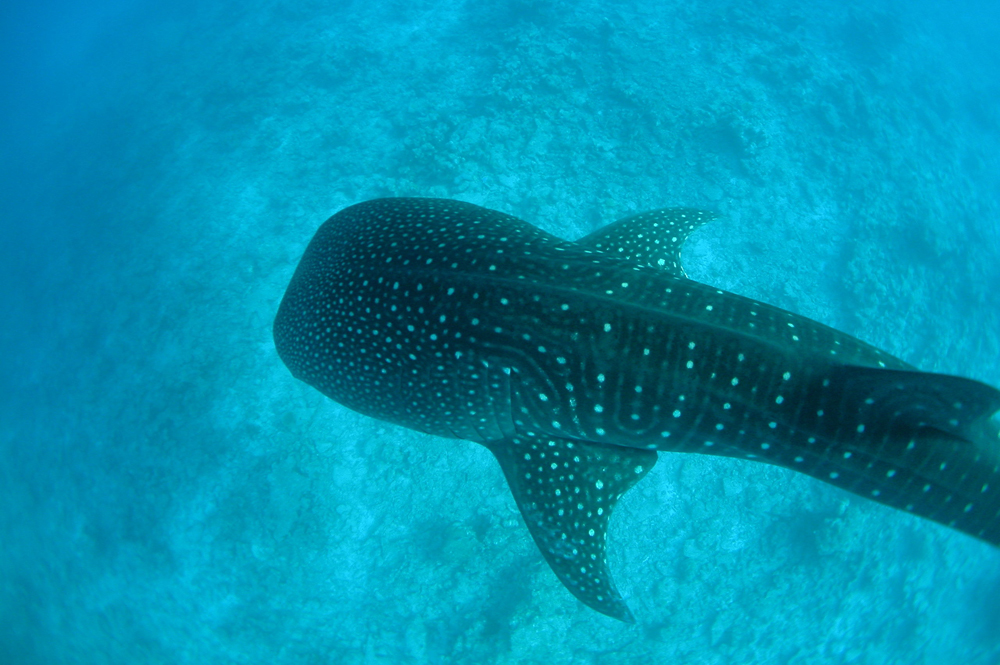Rhincodon_typusw: (221, 150, 1000, 632)
